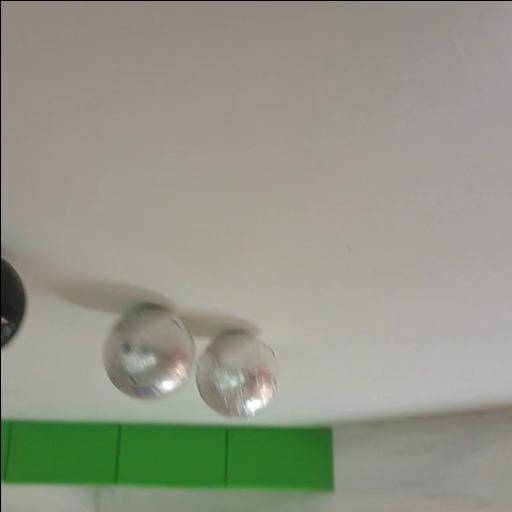alive: (100, 303, 198, 401), (192, 330, 278, 420)
dead: (0, 250, 27, 356)
